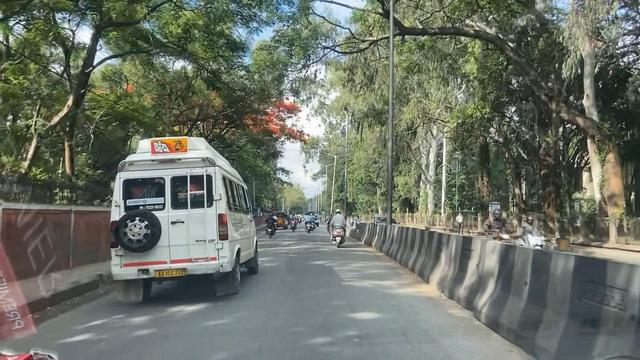HMV: (111, 152, 230, 292)
LMV: (330, 211, 349, 246), (264, 211, 277, 238), (303, 213, 314, 232)
